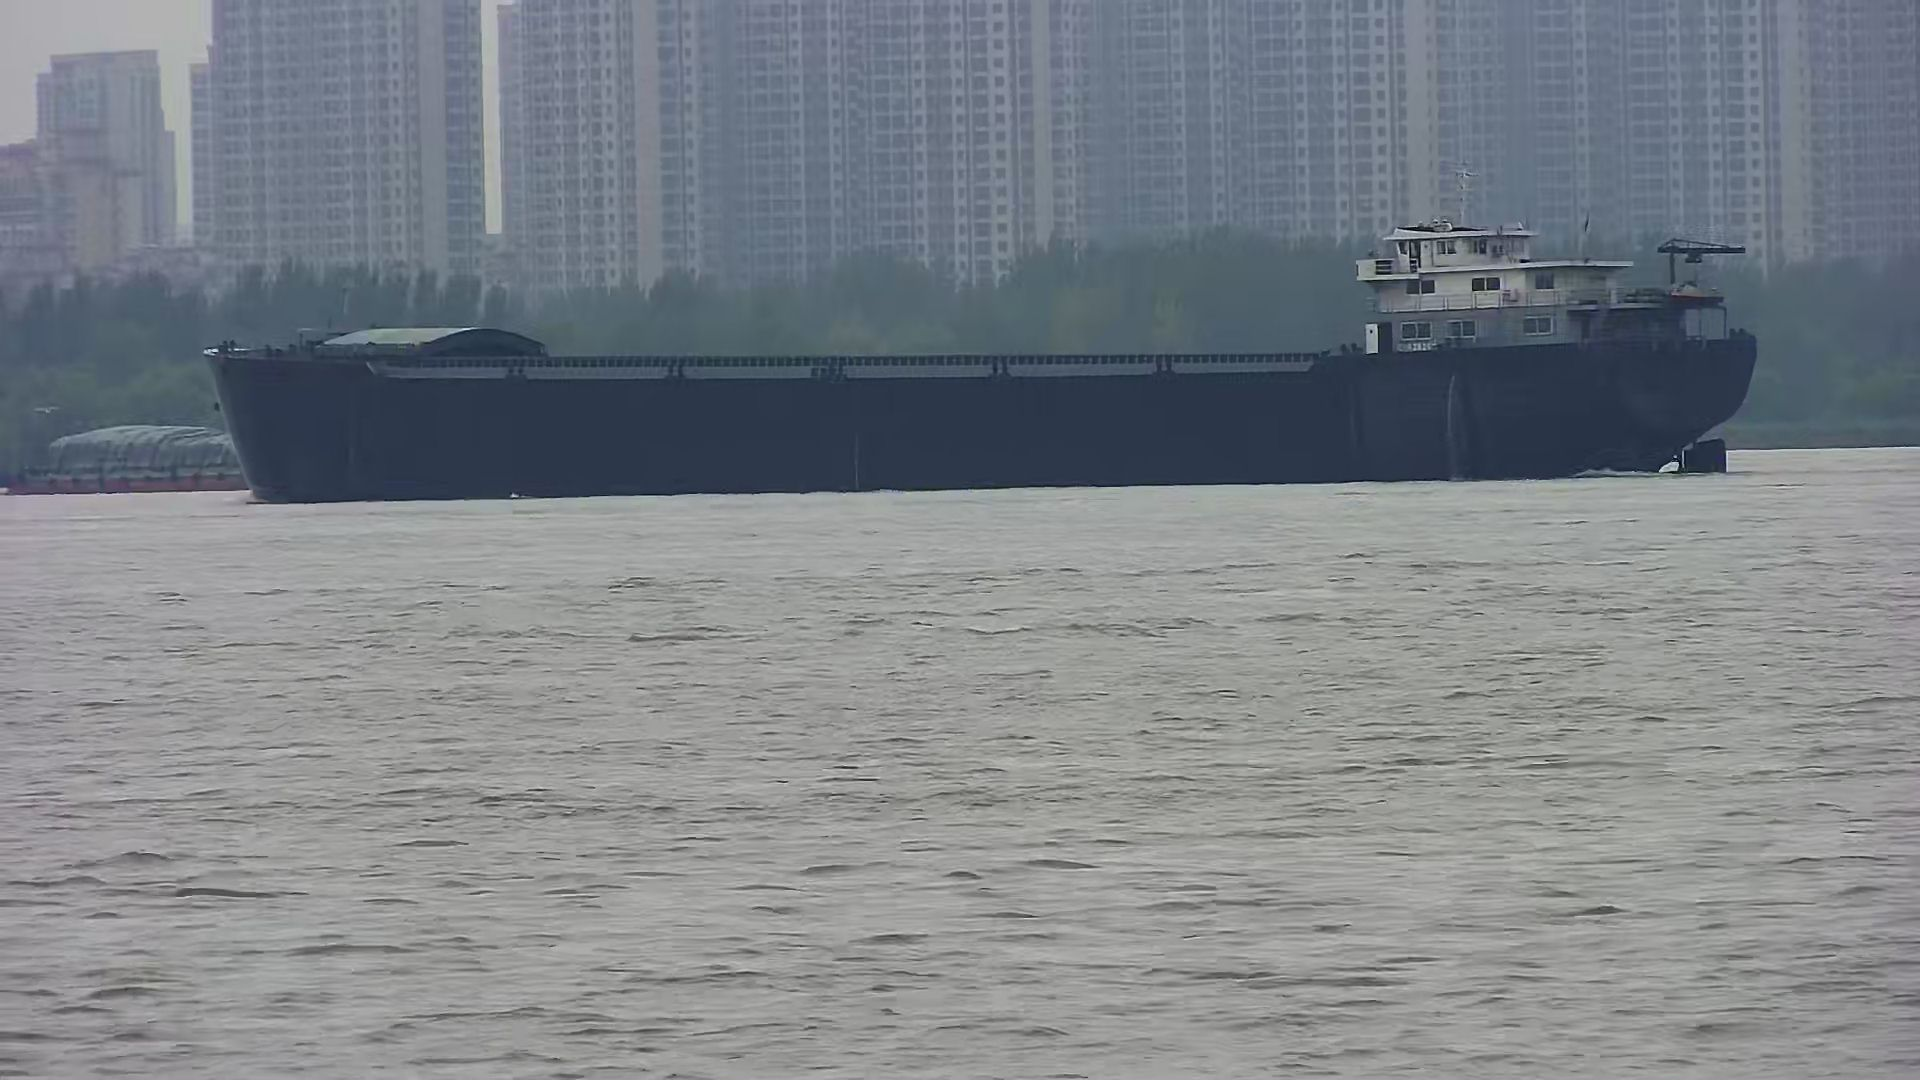ship: (212, 167, 1755, 501), (9, 406, 249, 497)
